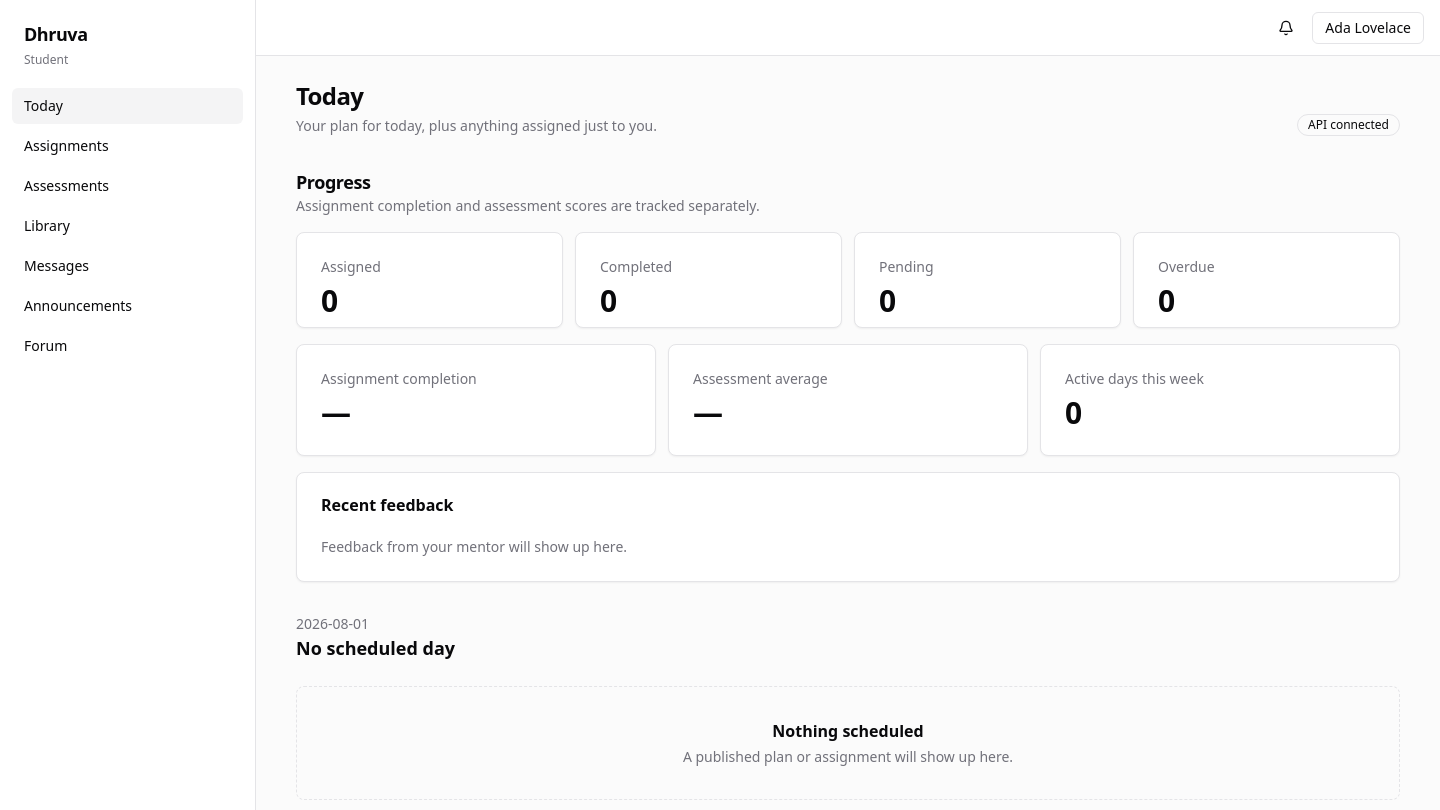
Test: application shell › opens notifications and the profile menu
The image size is (1440, 810).
Click the button named "Notifications" at (1286, 28), box [1268,10,1304,46]
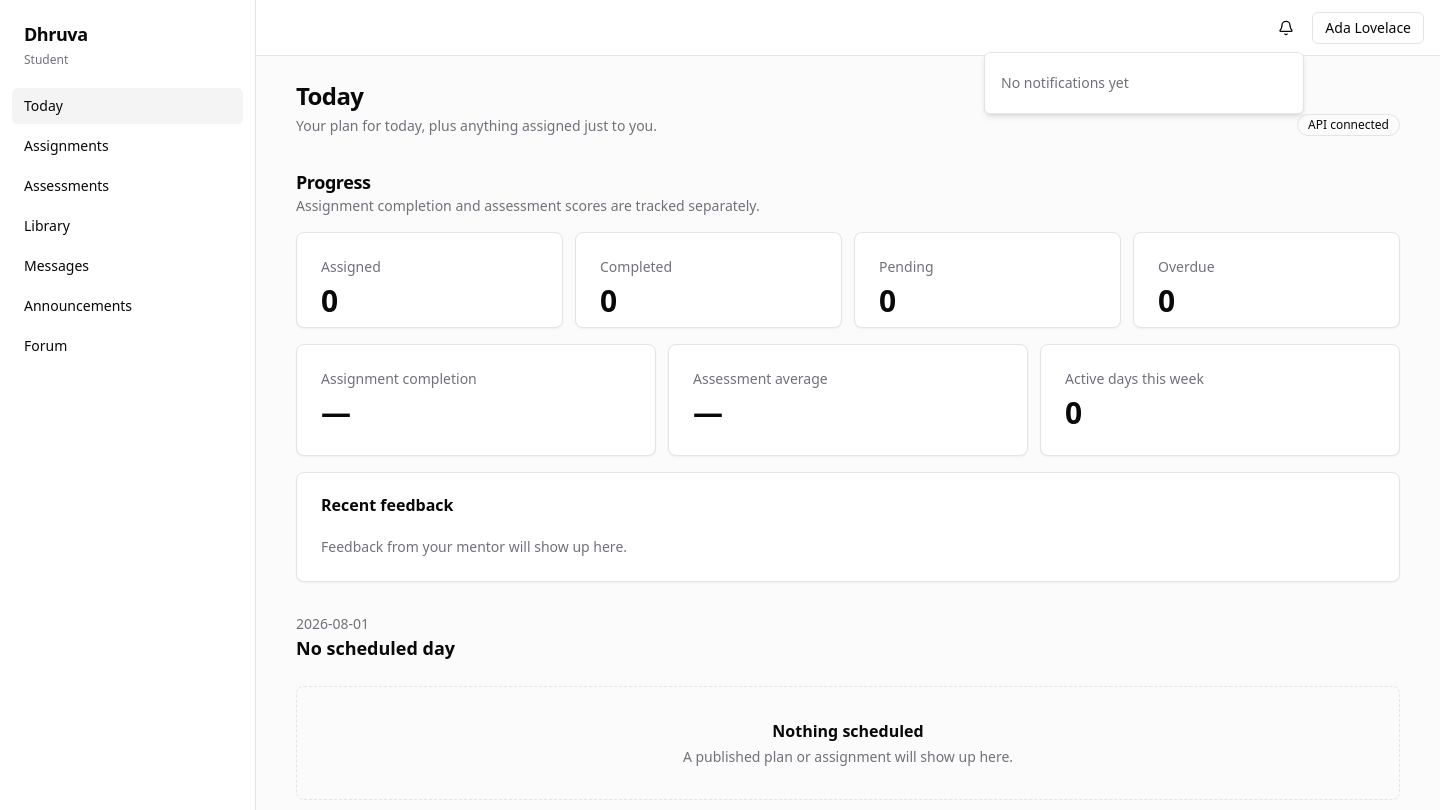
Now the text "No notifications yet" is shown, box [1001,73,1129,92]
Press Escape
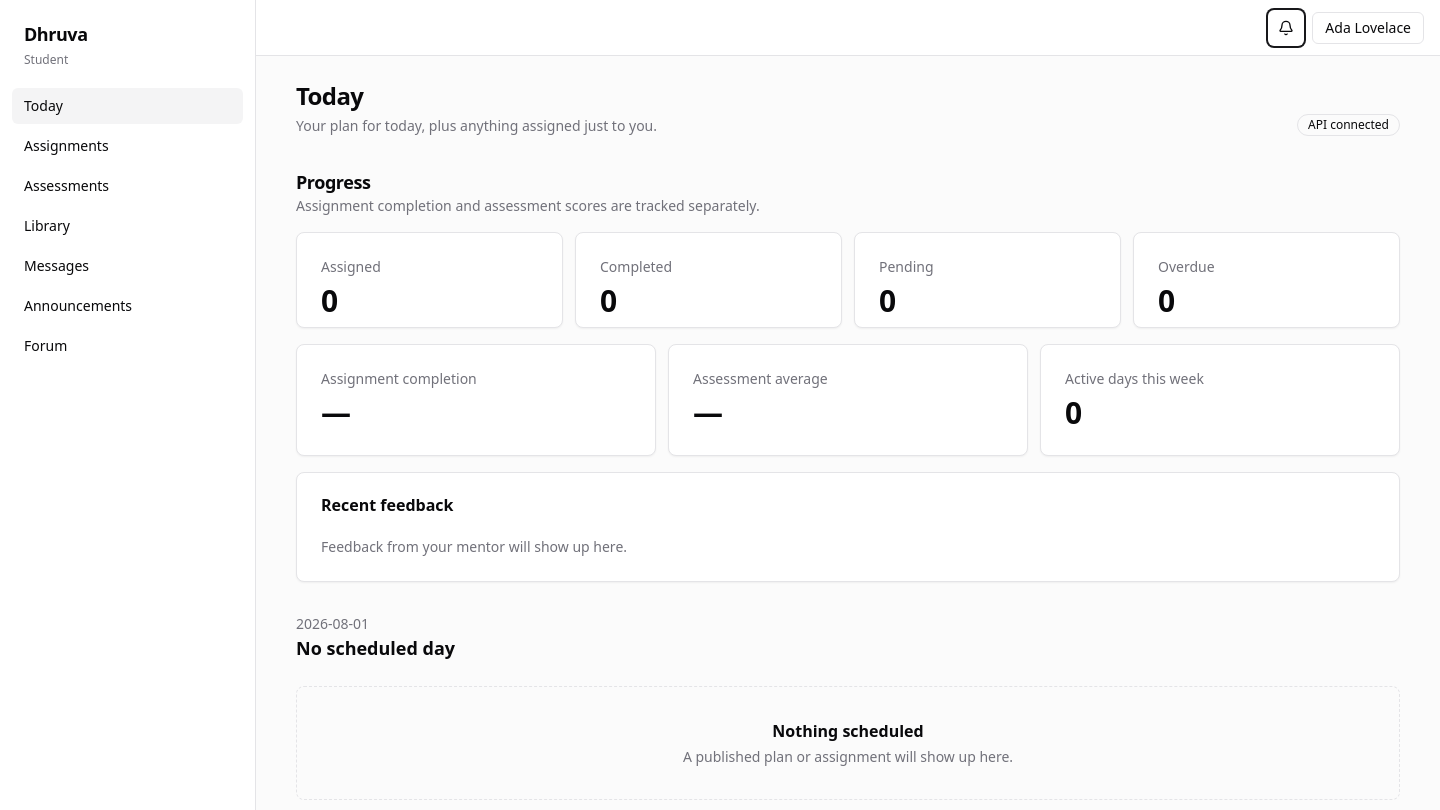
Click the button with aria-label "Open profile menu" at (1368, 28), box [1312,12,1424,44]
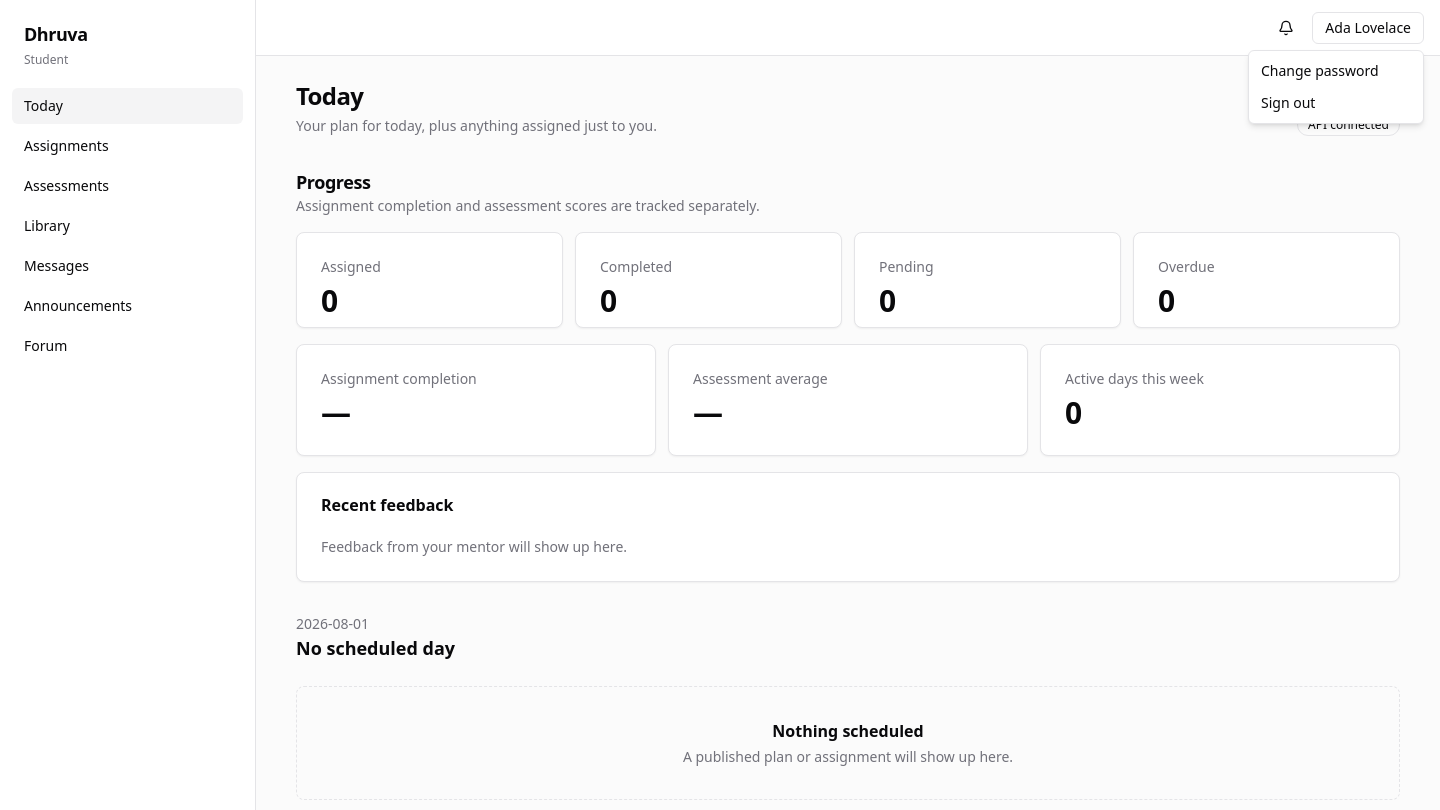
Now the menu item "Sign out" is shown, box [1261,93,1315,112]
Now the menu item "Change password" is shown, box [1261,61,1379,80]
